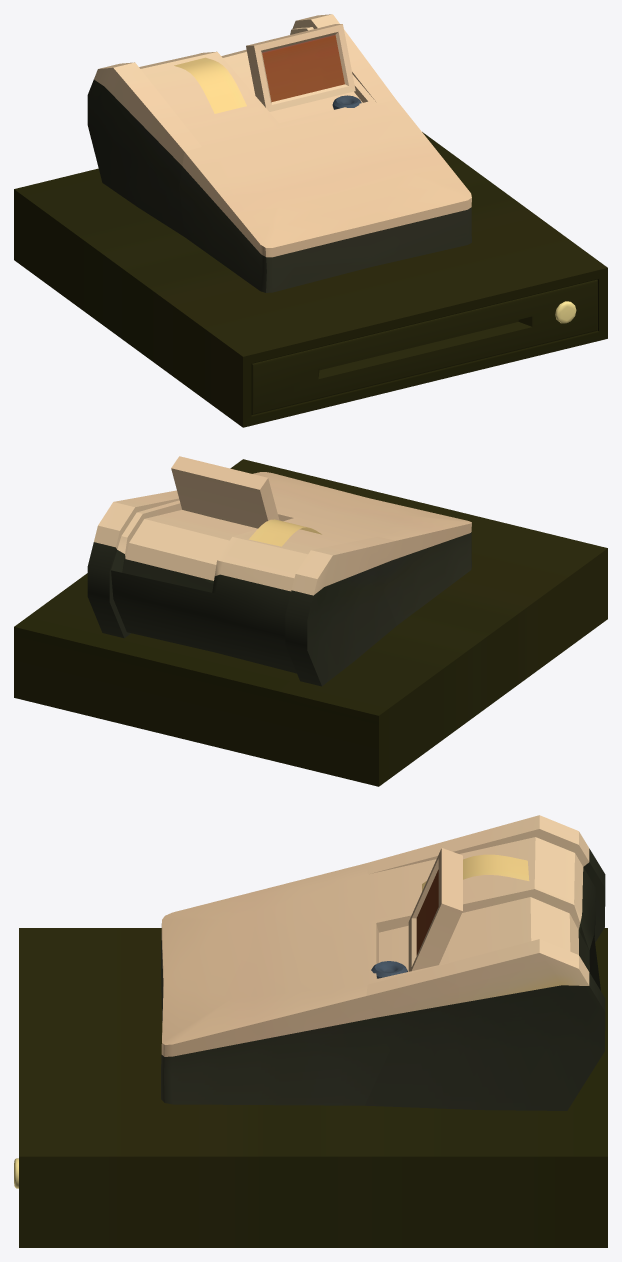
The model's file is kassa.fbx.
The picture shows the model from 3 angles, top to bottom: view 1: azimuth 30°, elevation 25°; view 2: azimuth 150°, elevation 25°; view 3: azimuth 270°, elevation 25°; orthographic projection. The views are drawn at different scales.
Parts seen in each view (by area): view 1: nalom, apparat, chek; view 2: nalom, apparat, chek; view 3: nalom, apparat, chek.
Part boxes in pixels (x1,y1,x2,y2): nalom: (14,132,607,427); apparat: (87,14,471,292); chek: (174,57,246,113); nalom: (14,459,607,786); apparat: (87,456,471,686); chek: (249,519,321,546); nalom: (19,928,607,1247); apparat: (161,815,605,1110); chek: (422,854,529,891).
Size of the model in its own units: 23.69 by 13.58 by 25.99.
1 material, 1 textured.
